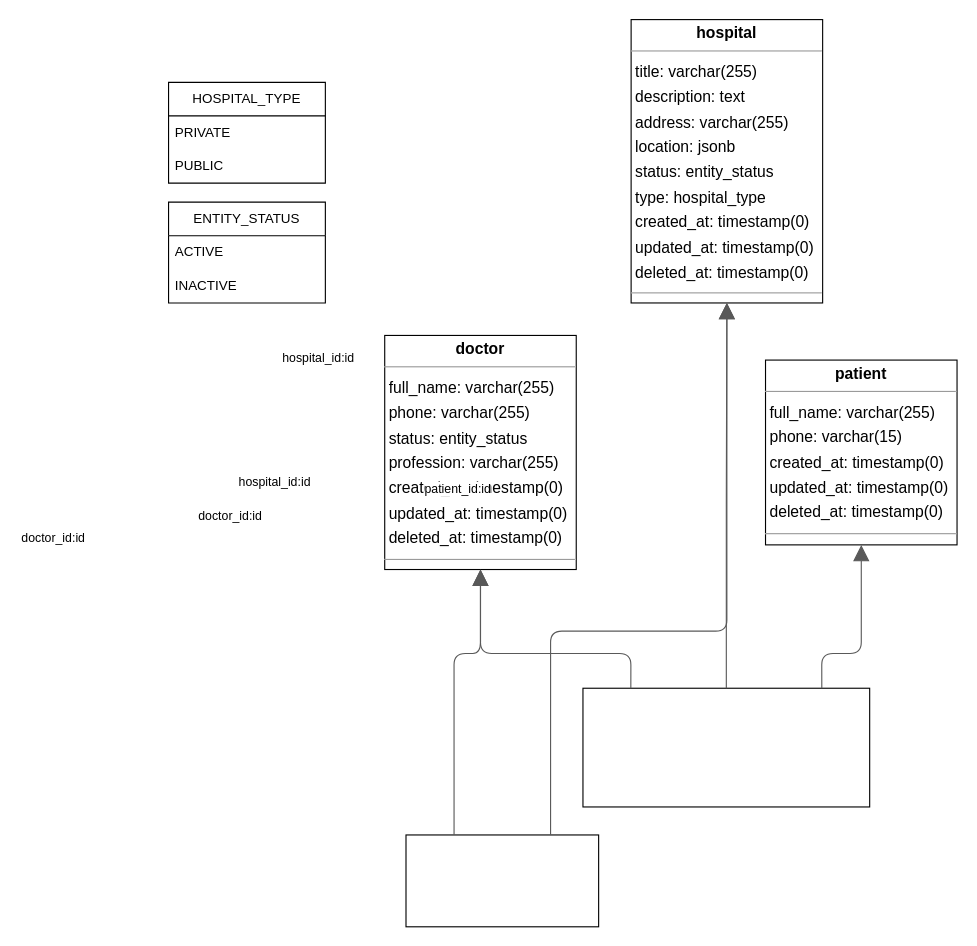
Image size: 977x946. Some labels were removed from this diagram. Here are the shapes that lost their labels. From the top down, the centre of each, then its label:
At [726,747]: "PatientsOnHospitalsAndDoctors patient_id: uuid doctor_id: uuid hospital_id: uuid".
At [502,880]: "DoctorsOnHospitals doctor_id: uuid hospital_id: uuid".
